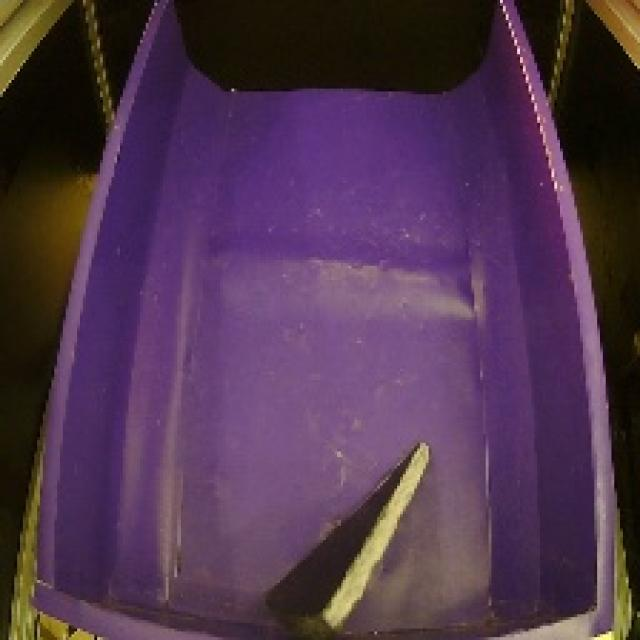china: (246, 434, 437, 640)
